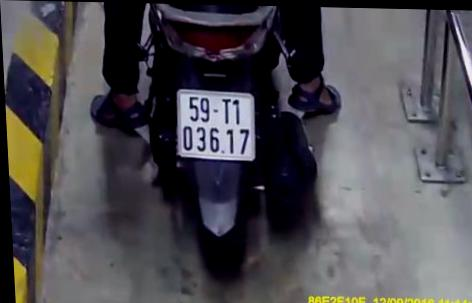License_Plate: (169, 82, 274, 172)
